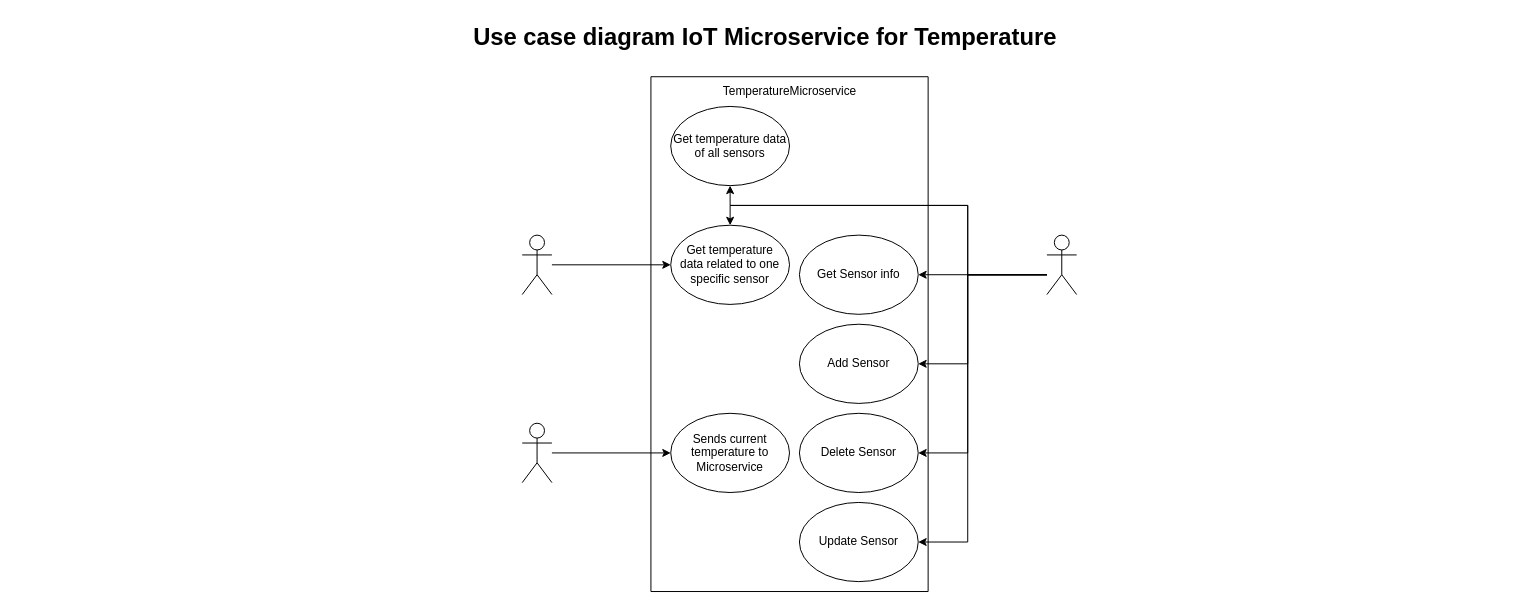
This 1529x609 diagram has some shape labels left out. Here are the shapes that lost their labels. From the top down, the box of each, then its label:
(521, 234, 552, 295): API Client
(1046, 234, 1077, 295): Admin
(521, 422, 552, 483): Sensor
